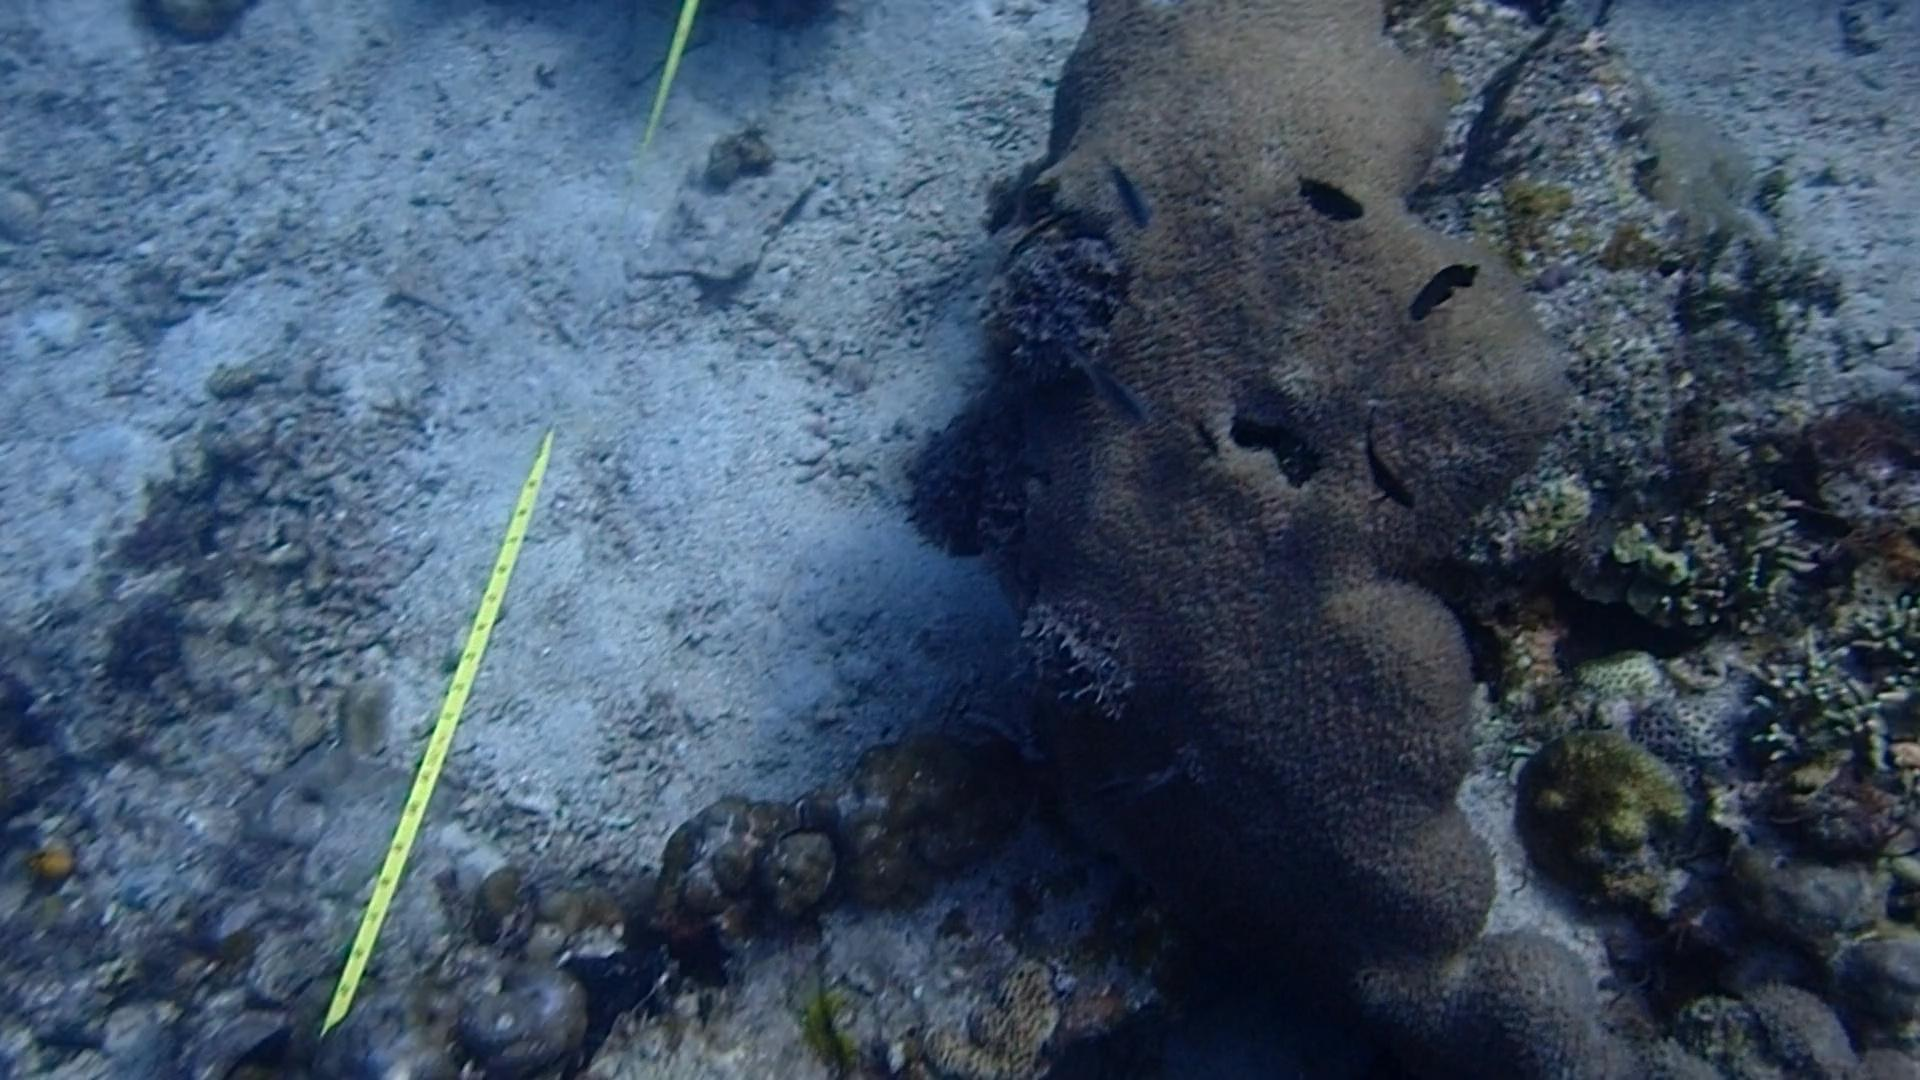Dark Fish: (1350, 407, 1429, 521), (1399, 240, 1493, 318), (1292, 165, 1382, 236), (1176, 409, 1230, 460)
Light Fish: (1072, 336, 1160, 438), (1084, 752, 1184, 819), (1095, 146, 1167, 232)
